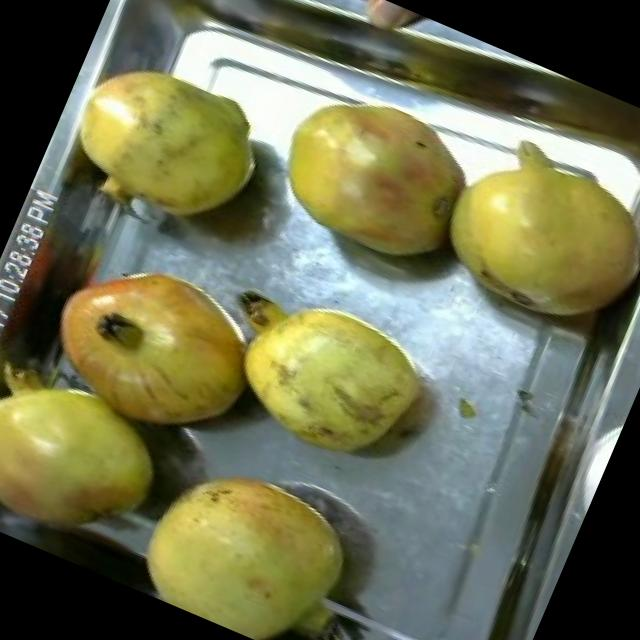fruit: (12, 220, 294, 471), (101, 411, 399, 640), (192, 260, 464, 496), (35, 21, 296, 262), (405, 96, 640, 359), (245, 59, 504, 294), (0, 325, 199, 584)
